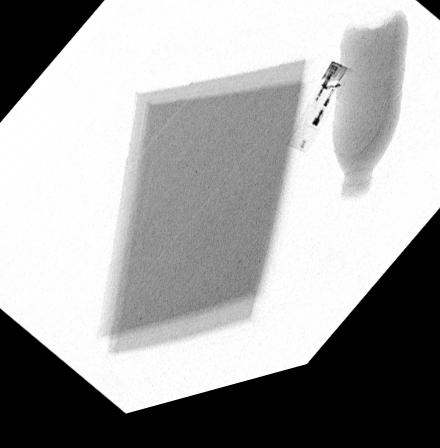Lighter: (284, 79, 351, 168)
